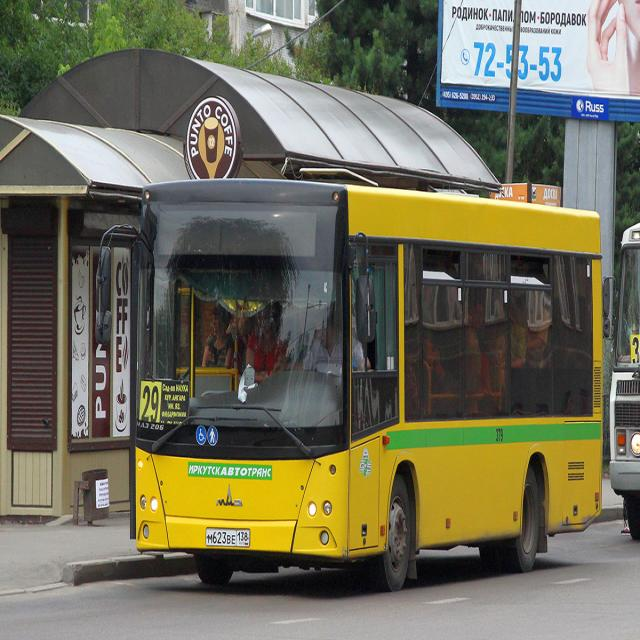number-of-bus: (140, 383, 161, 427)
